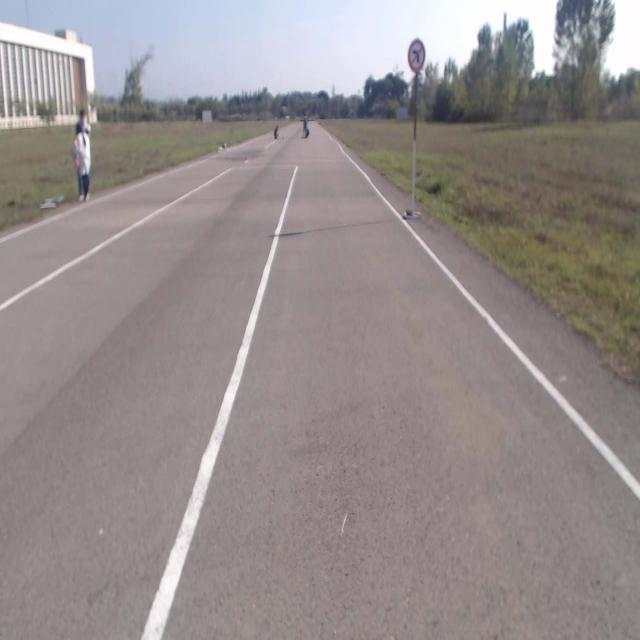soladonulmez: (408, 39, 424, 70)
